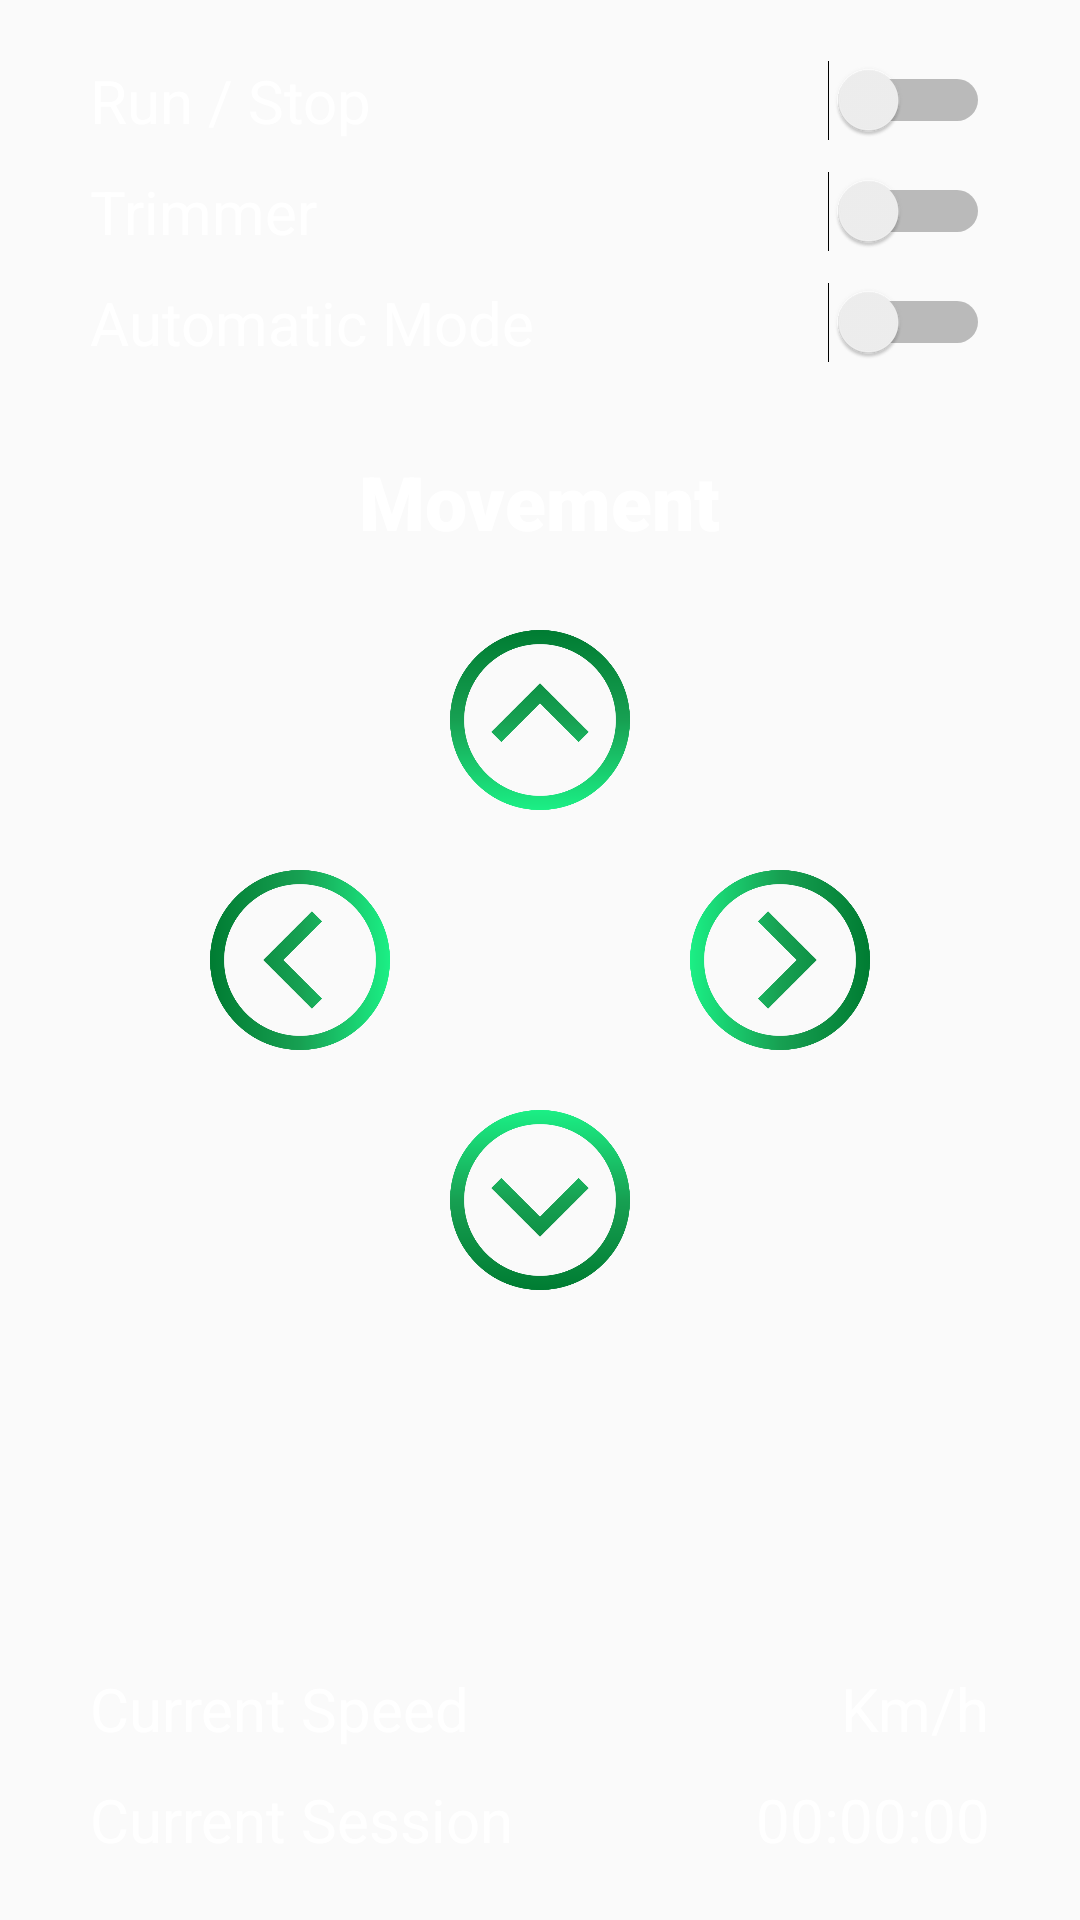

Screen size 1080w x 1920h. Icon name, then its box in pixels as (x1, y1, x2, y2):
arrowdown: (450, 1110, 630, 1290)
arrowleft: (210, 870, 390, 1050)
arrowright: (690, 870, 870, 1050)
arrowup: (450, 630, 630, 810)
